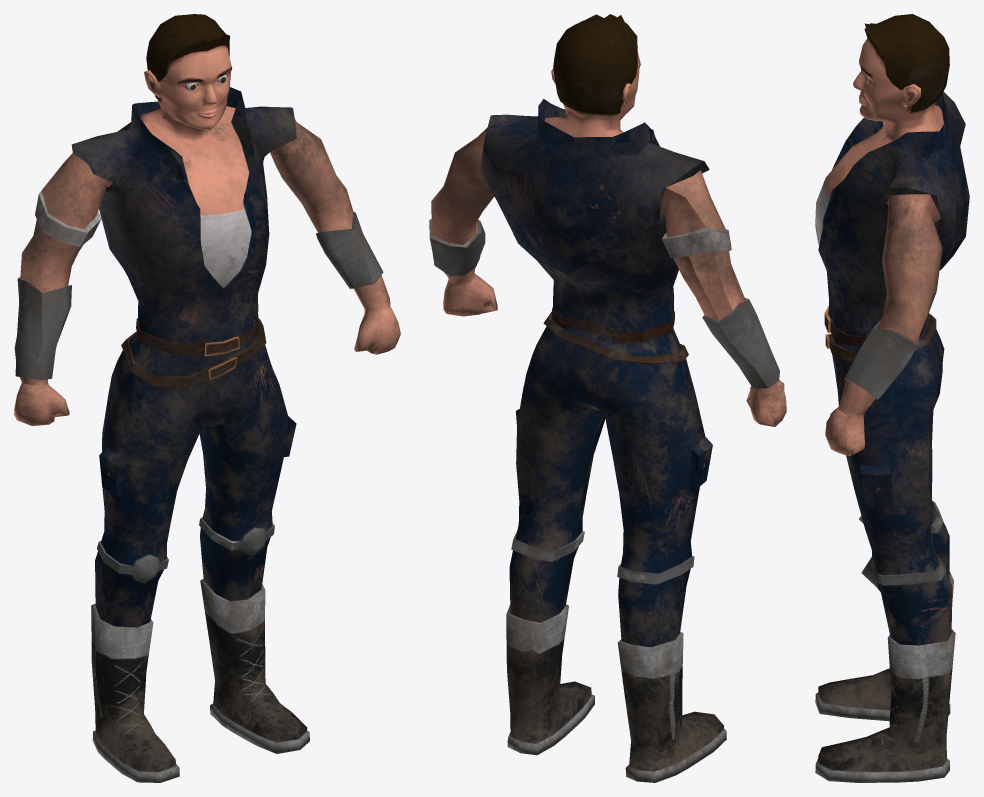
Rendered from Anim_idle_jugador.0033.obj.
3 renders of one model, left to right at view 1: azimuth 30°, elevation 25°; view 2: azimuth 150°, elevation 25°; view 3: azimuth 270°, elevation 25°, orthographic.
Parts seen in each view (by area): view 1: polySurface1; view 2: polySurface1; view 3: polySurface1.
Boxes of the visible parts, box(x1,y1,x2,y2) form: polySurface1: box(14, 14, 400, 782); polySurface1: box(429, 14, 786, 782); polySurface1: box(815, 14, 969, 782).
Bounding box in the file's own units: 5.02 × 9.64 × 1.86.
